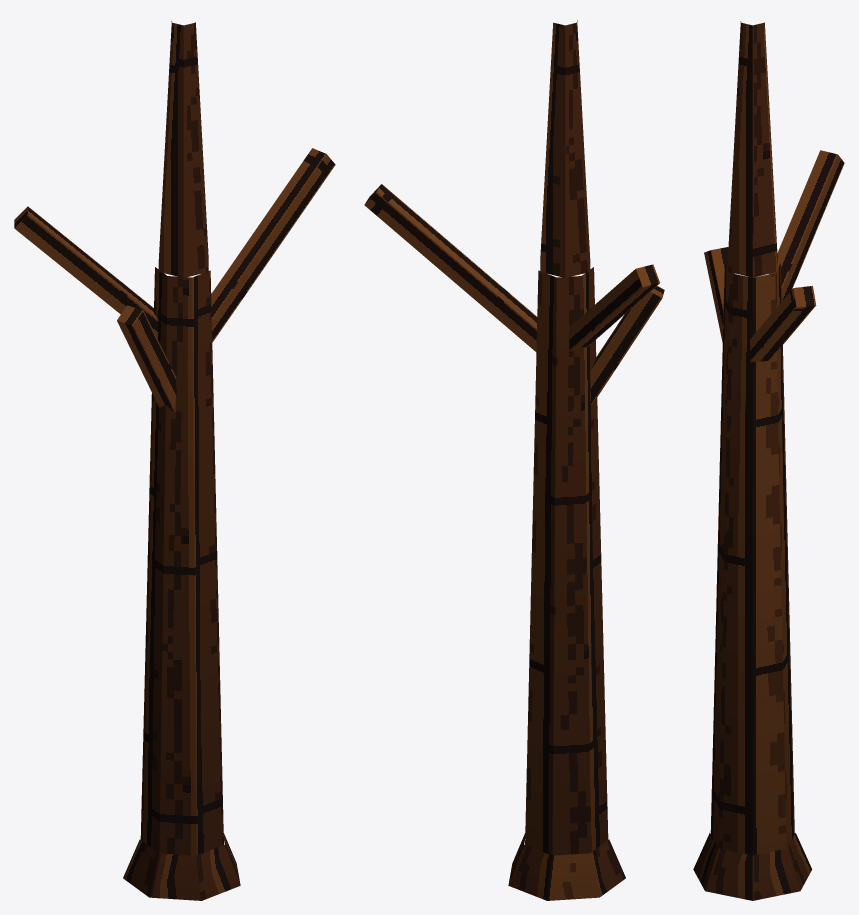
Rendered from birch_3_trunk.glb.
3 views of the same model, side by side, from view 1: azimuth 30°, elevation 25°; view 2: azimuth 150°, elevation 25°; view 3: azimuth 270°, elevation 25° (orthographic).
Parts seen in each view (by area): view 1: birch_3_trunk; view 2: birch_3_trunk; view 3: birch_3_trunk.
Part boxes in pixels (x1,y1,x2,y2): birch_3_trunk: [14, 21, 335, 900]; birch_3_trunk: [364, 20, 664, 900]; birch_3_trunk: [693, 21, 844, 900].
Size of the model in its own units: 2.08 by 5.57 by 0.8931.
Materials: 1 (1 with a texture image).
